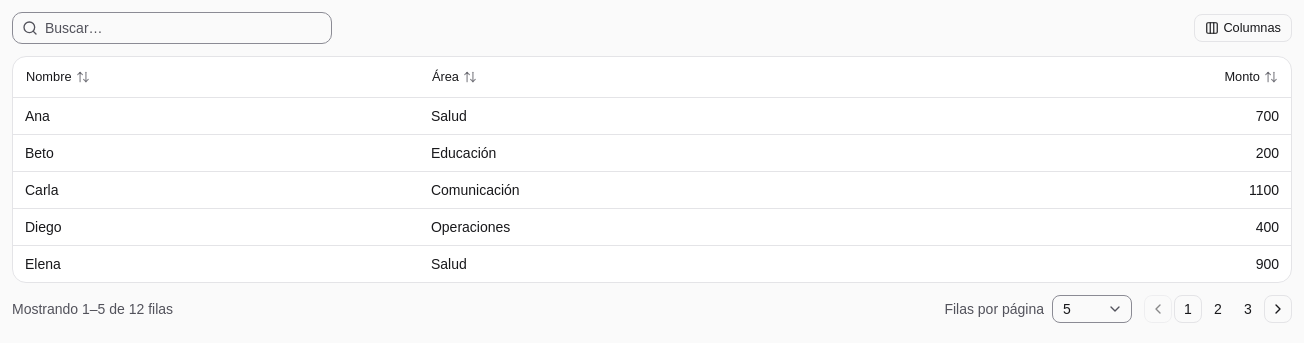
Test: DataTable › navega entre páginas y actualiza el resumen
Expected: the navigation bar named "Paginación: Personas de prueba" is shown, [1144,294,1292,324]
Expected: the button named "Ir a la página anterior" is disabled, [1144,294,1172,322]
Click the button named "Ir a la página siguiente" at coordinates (1278, 308), box [1264,294,1292,322]
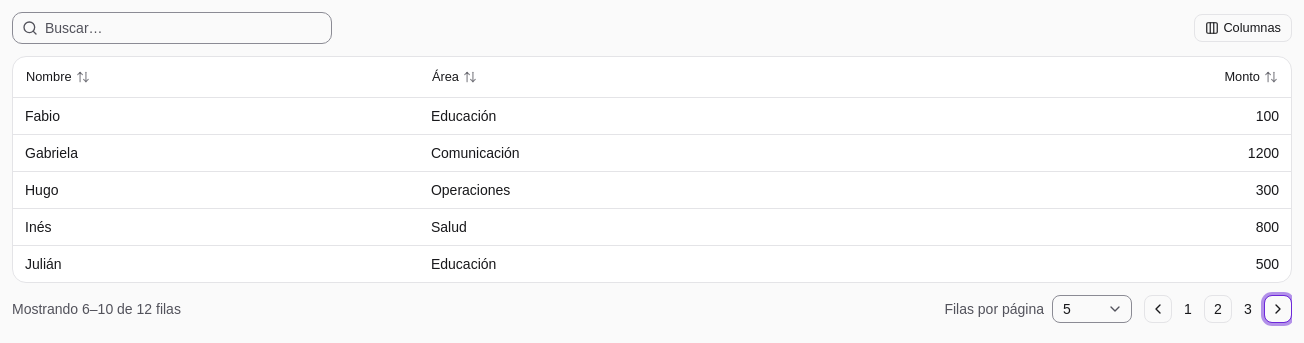
Now the text "Mostrando 6–10 de 12 filas" is shown, box [12,299,181,319]
Now the text "Fabio" is shown, box [13,98,419,134]
Now the text "Ana" is gone
Click the button named "Ir a la página 3" at coordinates (1248, 309), box [1234,295,1262,323]
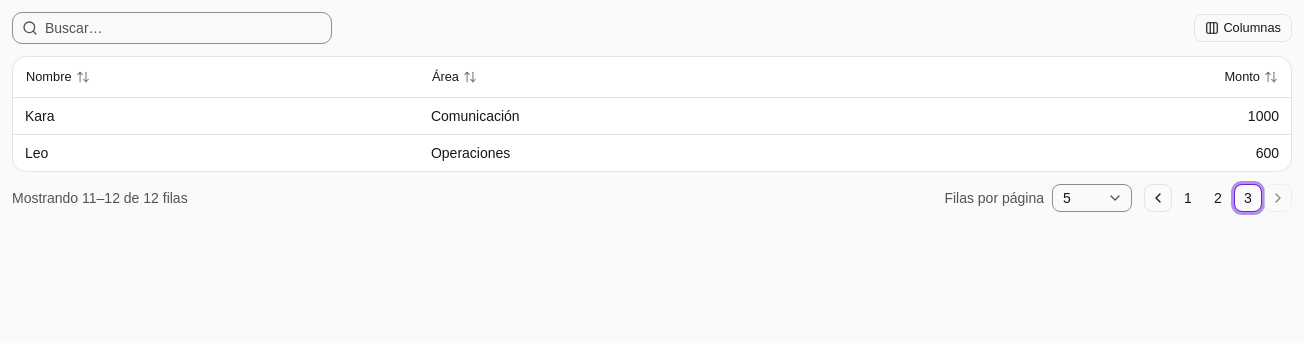
Now the text "Mostrando 11–12 de 12 filas" is shown, box [12,188,188,208]
Now the button named "Ir a la página siguiente" is disabled, box [1264,184,1292,212]
